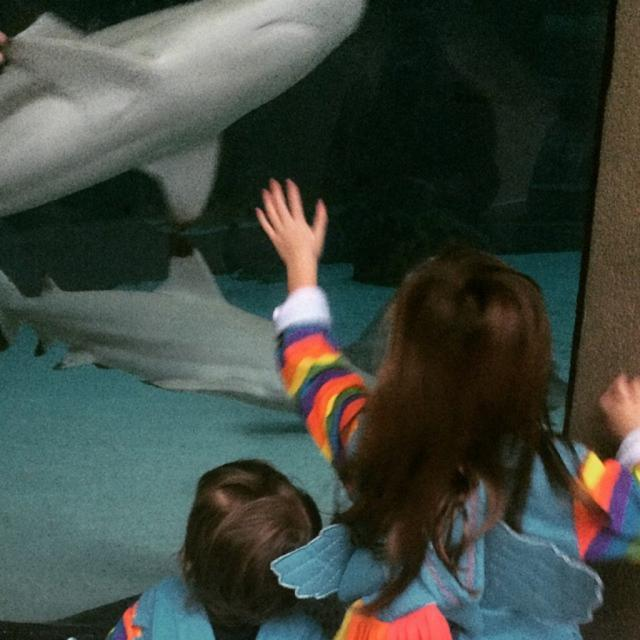Shark: (0, 0, 370, 224), (0, 249, 293, 413)
